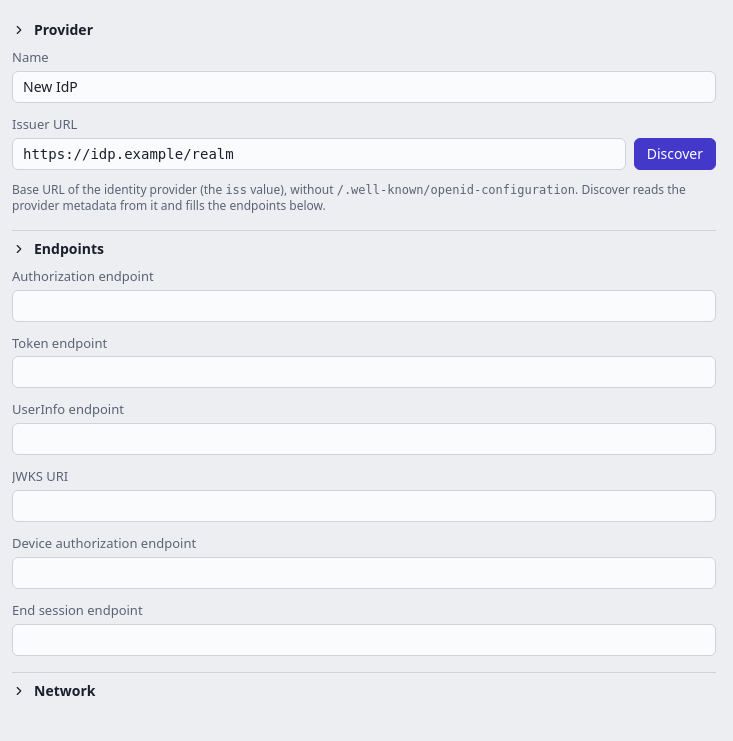
IdpForm › REQ-DISC-006 reports a discovery failure to the parent and leaves endpoints untouched
The image size is (733, 741).
Click the button "Discover".
click(675, 154)  # box x1=634 y1=138 x2=716 y2=170
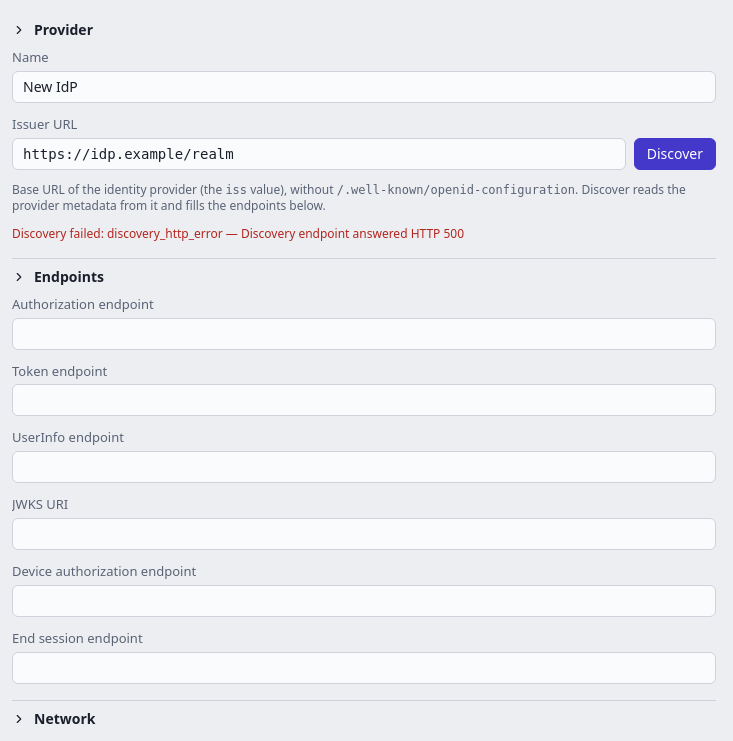
Expected: the message "Discovery failed: discovery_http_error — Discovery endpoint answered HTTP 500" is shown, x1=12 y1=225 x2=464 y2=242
